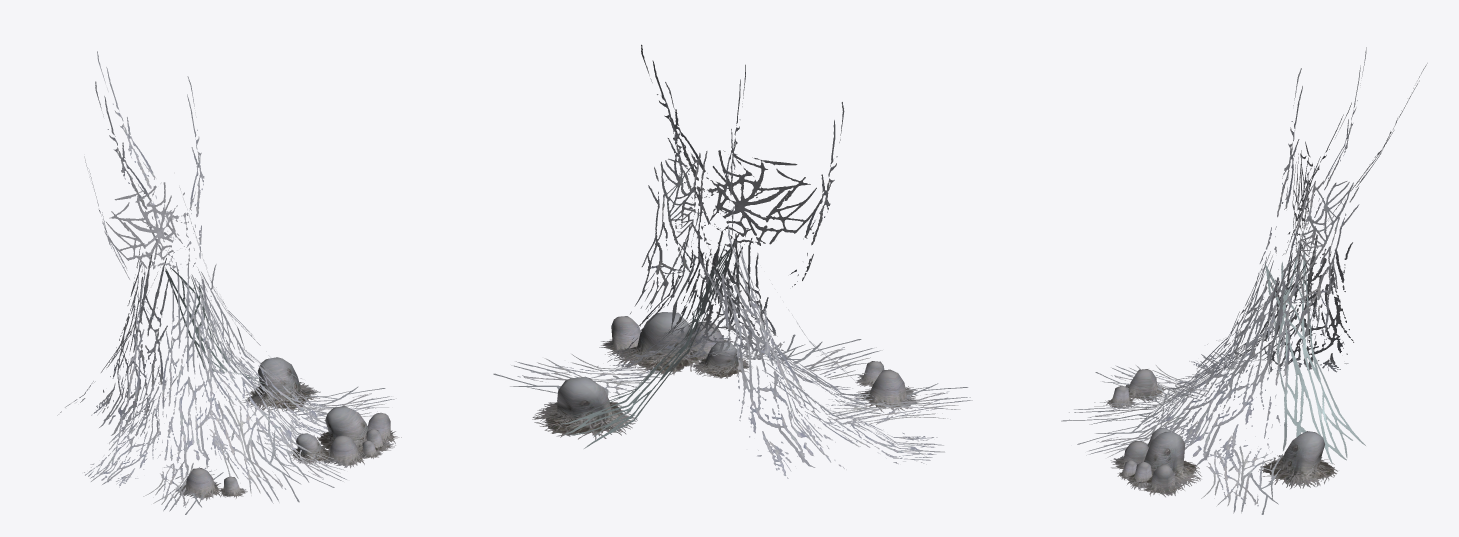
File: fb_csd_zhuwang_a.FBX
3 views of the same model, side by side, from view 1: azimuth 30°, elevation 25°; view 2: azimuth 150°, elevation 25°; view 3: azimuth 270°, elevation 25° (orthographic). The views are drawn at different scales.
Parts seen in each view (by area): view 1: fb_csd_zhuwang_a, fb_csd_zhuwang_c; view 2: fb_csd_zhuwang_a, fb_csd_zhuwang_c; view 3: fb_csd_zhuwang_a, fb_csd_zhuwang_c.
Part boxes in pixels (x1=…): fb_csd_zhuwang_a: x1=57, y1=51, x2=396, y2=514; fb_csd_zhuwang_c: x1=174, y1=357, x2=401, y2=500; fb_csd_zhuwang_a: x1=493, y1=44, x2=972, y2=478; fb_csd_zhuwang_c: x1=532, y1=312, x2=918, y2=439; fb_csd_zhuwang_a: x1=1061, y1=47, x2=1427, y2=514; fb_csd_zhuwang_c: x1=1105, y1=369, x2=1337, y2=497.
Size of the model in its own units: 623 by 596 by 577.
